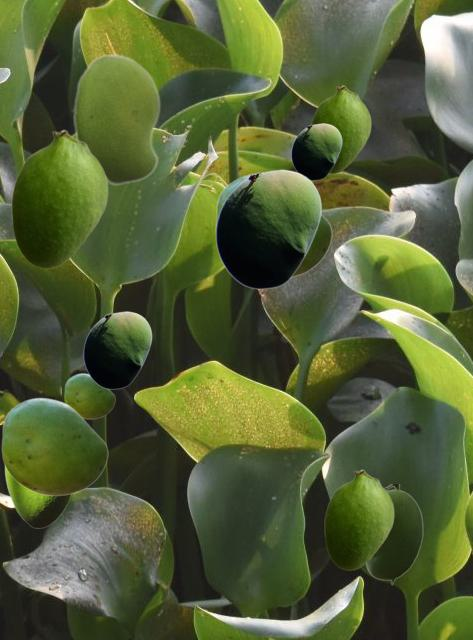green_mango: (11, 129, 107, 267), (215, 169, 321, 288), (215, 174, 331, 278), (73, 53, 160, 185), (1, 397, 107, 495), (324, 469, 393, 569), (365, 484, 422, 584), (83, 311, 151, 388), (311, 85, 370, 172), (4, 467, 73, 527), (291, 123, 341, 179), (64, 373, 114, 418)
